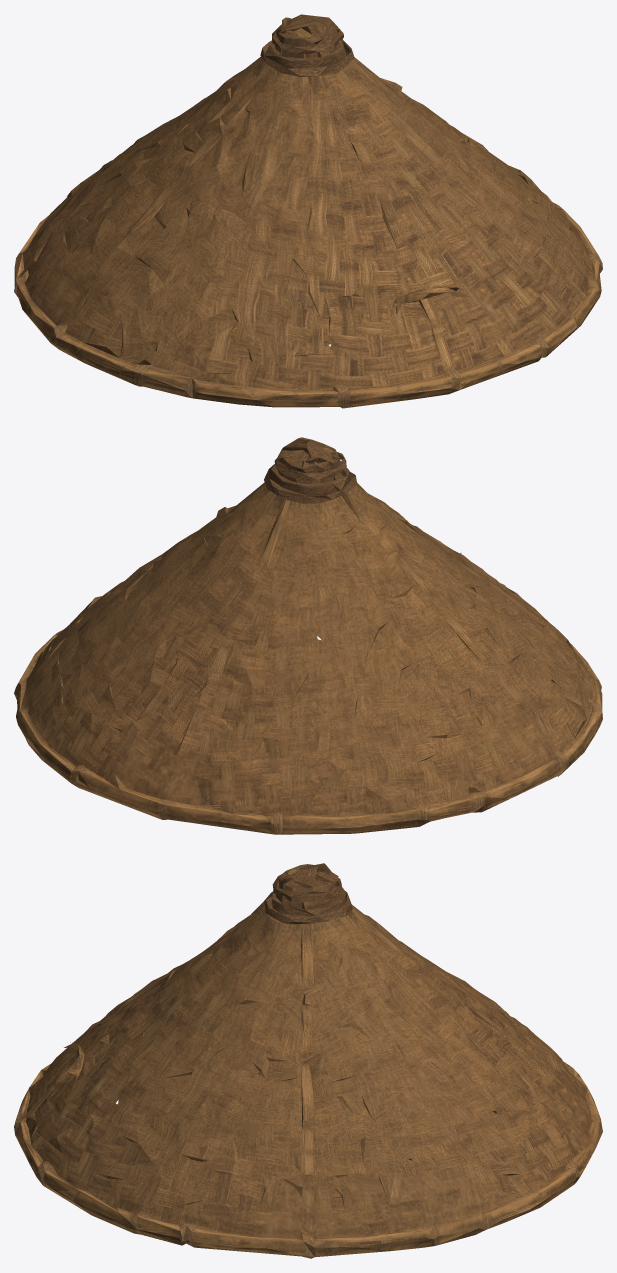
Rendered from acc_kasa_straw_image.glb.
3 views of the same model, one above another, from view 1: azimuth 30°, elevation 25°; view 2: azimuth 150°, elevation 25°; view 3: azimuth 270°, elevation 25° (orthographic).
Bounding box in the file's own units: 1.9 × 0.96 × 1.9.
Materials: 1 (1 with a texture image).
